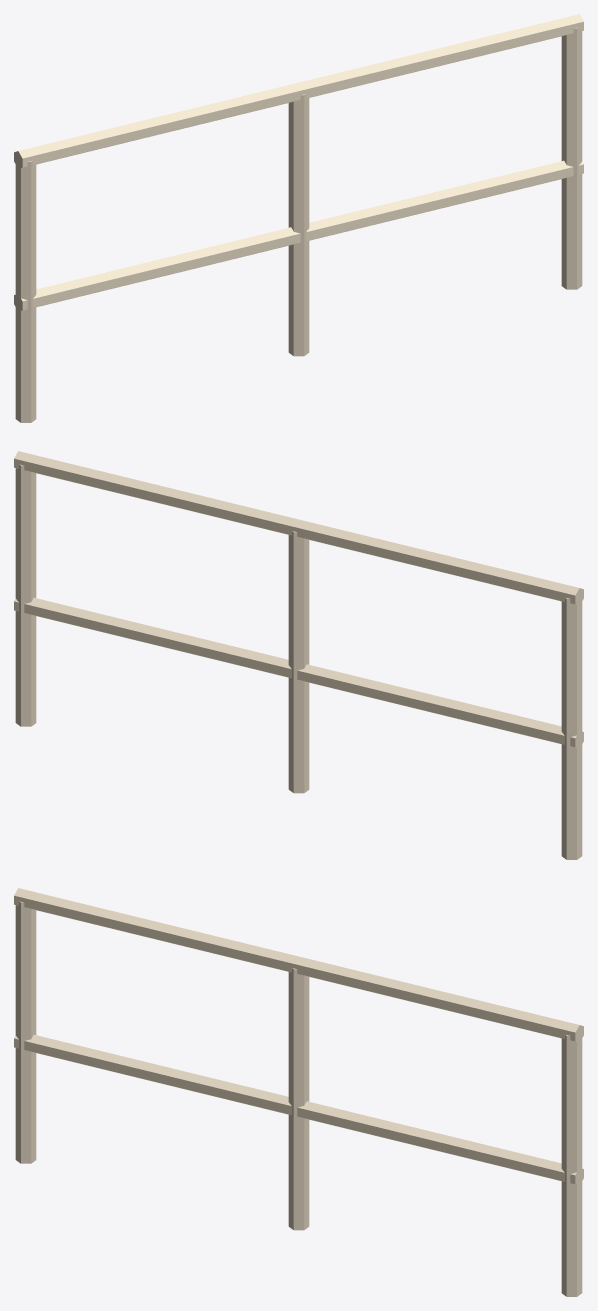
The picture shows the model from 3 angles, top to bottom: view 1: azimuth 30°, elevation 25°; view 2: azimuth 150°, elevation 25°; view 3: azimuth 330°, elevation 25°; orthographic projection.
Parts seen in each view (by area): view 1: Rail.001, Rail, Stanchion, Stanchion.001, Stanchion.002; view 2: Rail.001, Rail, Stanchion, Stanchion.001, Stanchion.002; view 3: Rail.001, Rail, Stanchion.002, Stanchion, Stanchion.001.
Part boxes in pixels (<box>): Rail.001: <box>14,14,583,168</box>; Rail: <box>14,160,583,311</box>; Stanchion: <box>15,160,36,422</box>; Stanchion.001: <box>288,94,309,356</box>; Stanchion.002: <box>561,27,582,289</box>; Rail.001: <box>14,451,583,605</box>; Rail: <box>14,597,583,748</box>; Stanchion: <box>561,597,582,859</box>; Stanchion.001: <box>288,531,309,793</box>; Stanchion.002: <box>15,464,36,726</box>; Rail.001: <box>14,888,583,1042</box>; Rail: <box>14,1034,583,1185</box>; Stanchion.002: <box>561,1034,582,1296</box>; Stanchion: <box>15,901,36,1163</box>; Stanchion.001: <box>288,968,309,1230</box>.
Bounding box in the file's own units: 144 × 66.2 × 4.6.
